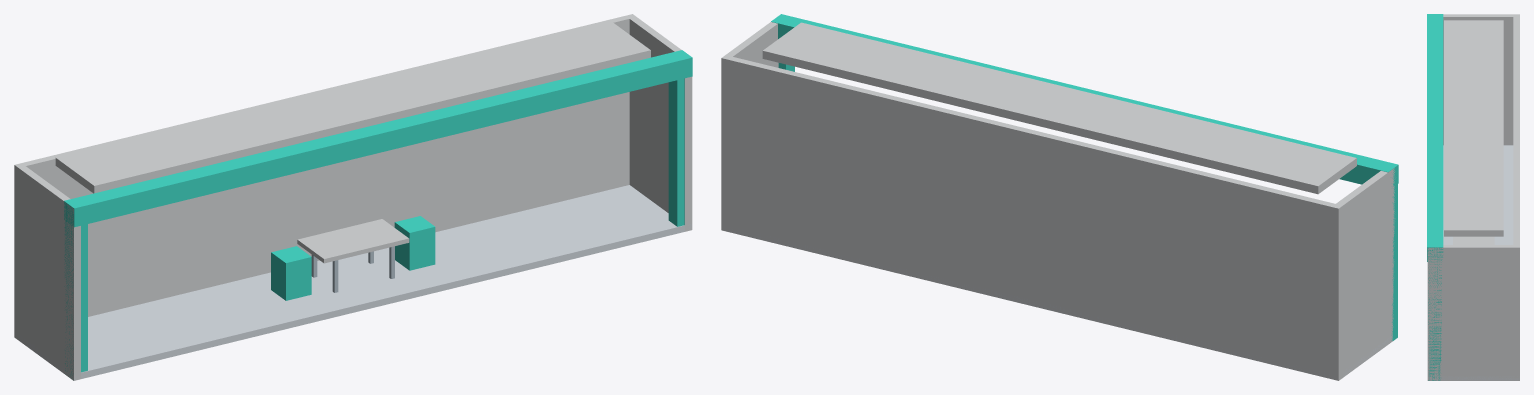
3 renders of one model, left to right at view 1: azimuth 30°, elevation 25°; view 2: azimuth 150°, elevation 25°; view 3: azimuth 270°, elevation 25°, orthographic. The views are drawn at different scales.
Visible parts, largest first — view 1: Exhibition Booth Concept; view 2: Exhibition Booth Concept; view 3: Exhibition Booth Concept.
Part boxes in pixels (box(x1,y1,x2,y2)): Exhibition Booth Concept: box(14, 14, 692, 380); Exhibition Booth Concept: box(721, 14, 1398, 380); Exhibition Booth Concept: box(1427, 14, 1519, 380).
Size of the model in its own units: 12 by 3.34 by 2.01.
